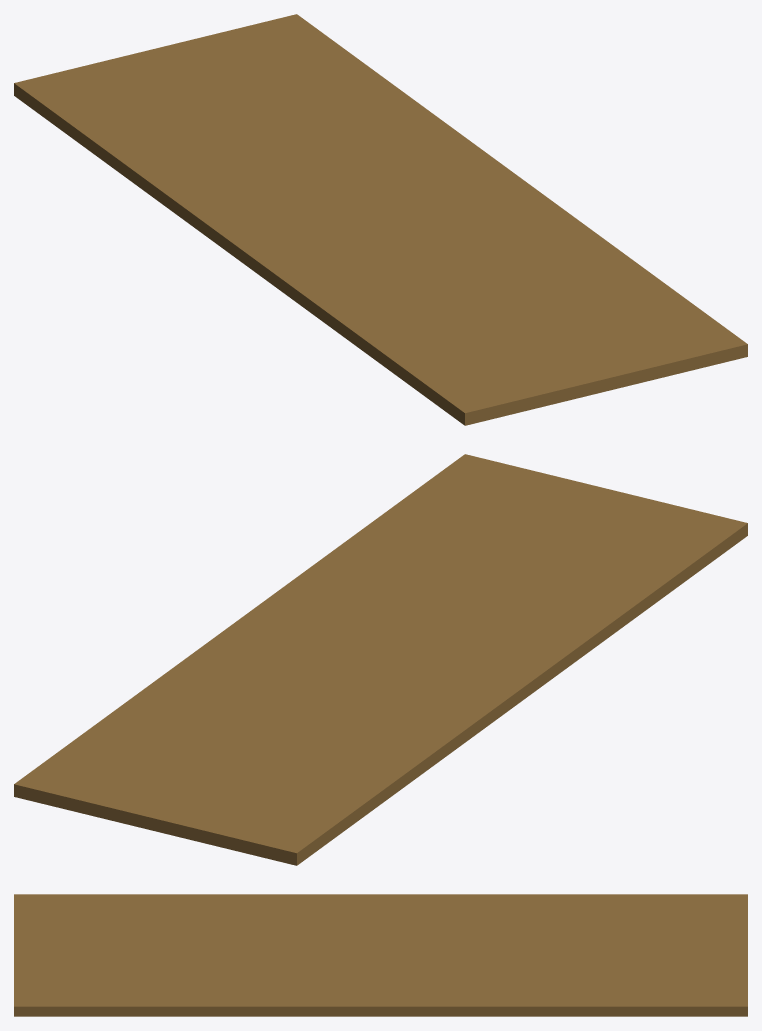
Rendered from road1.fbx.
The picture shows the model from 3 angles, top to bottom: view 1: azimuth 30°, elevation 25°; view 2: azimuth 150°, elevation 25°; view 3: azimuth 270°, elevation 25°; orthographic projection. The views are drawn at different scales.
Parts seen in each view (by area): view 1: Cube_4; view 2: Cube_4; view 3: Cube_4.
Part boxes in pixels (box(x1,y1,x2,y2)): Cube_4: box(14, 14, 747, 425); Cube_4: box(14, 454, 747, 865); Cube_4: box(14, 894, 747, 1016).
Bounding box in the file's own units: 200 × 8.52 × 552.
